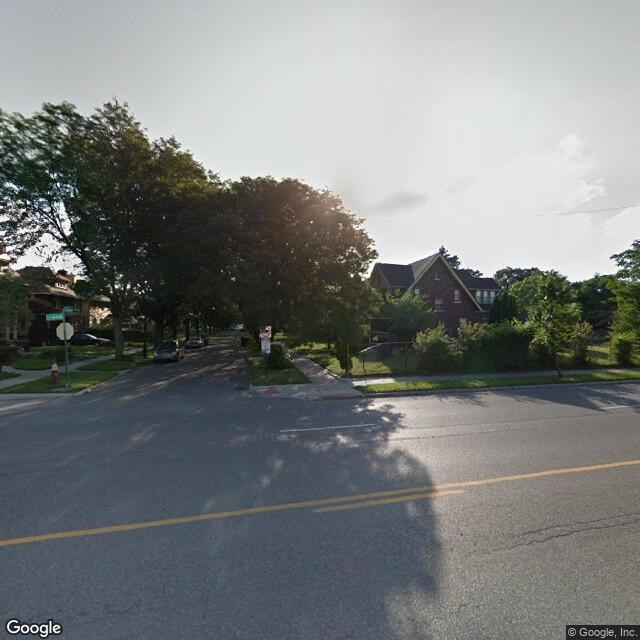litter: (86, 387, 94, 394)
